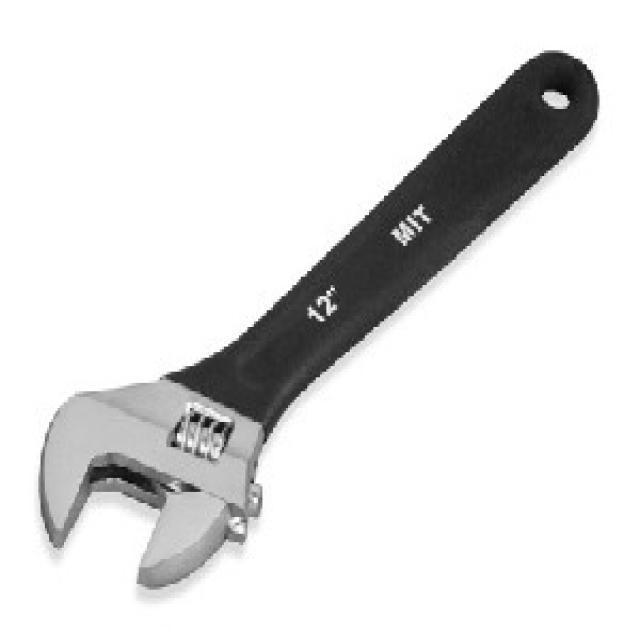wrench: (32, 42, 606, 600)
